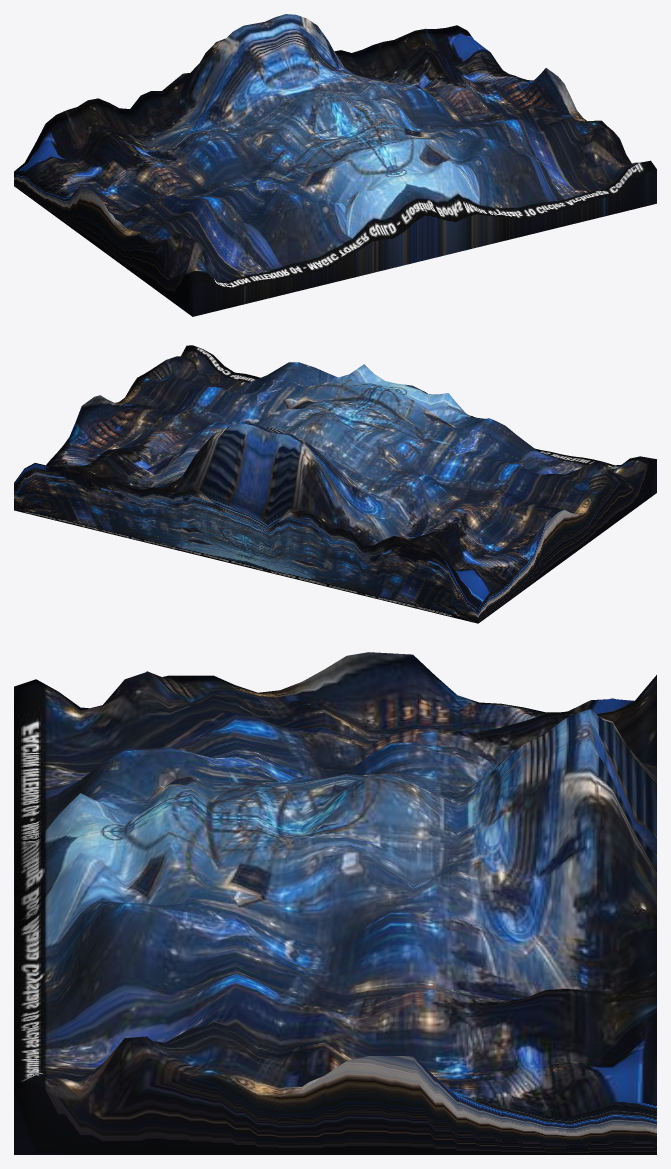
Rendered from FACTION_INT_04_Tower_Guild.glb.
The picture shows the model from 3 angles, top to bottom: view 1: azimuth 30°, elevation 25°; view 2: azimuth 150°, elevation 25°; view 3: azimuth 270°, elevation 25°; orthographic projection. The views are drawn at different scales.
Visible parts, largest first — view 1: FACTION_INT_04_Tower_Guild; view 2: FACTION_INT_04_Tower_Guild; view 3: FACTION_INT_04_Tower_Guild.
Boxes of the visible parts, x1=… form: FACTION_INT_04_Tower_Guild: x1=14, y1=14, x2=656, y2=316; FACTION_INT_04_Tower_Guild: x1=14, y1=345, x2=656, y2=623; FACTION_INT_04_Tower_Guild: x1=14, y1=652, x2=656, y2=1154.
Bounding box in the file's own units: 2 × 0.51 × 1.33.
1 material, 1 textured.
